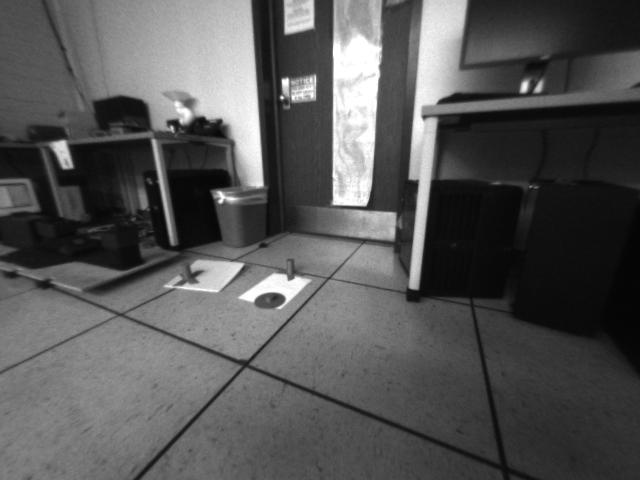X: (173, 262, 202, 287), (280, 259, 306, 280)
